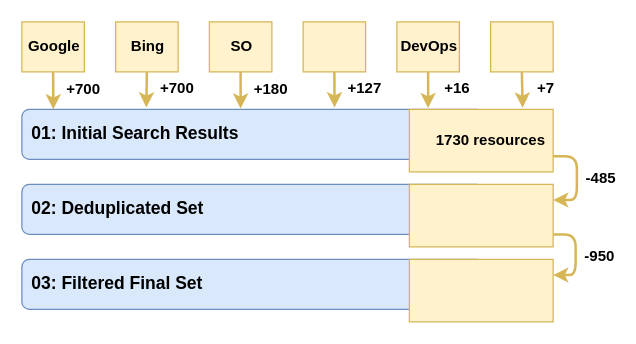
The diagram is 636 pixels wide and 344 high, and some of its shapes have lost their labels. Here are the shapes that lost their labels. From the top down, the centre of each, then its label:
At point 334,46: "SE".
At point 521,46: "SQA".
At point 480,215: "1245 resources".
At point 480,290: "295 resources".
